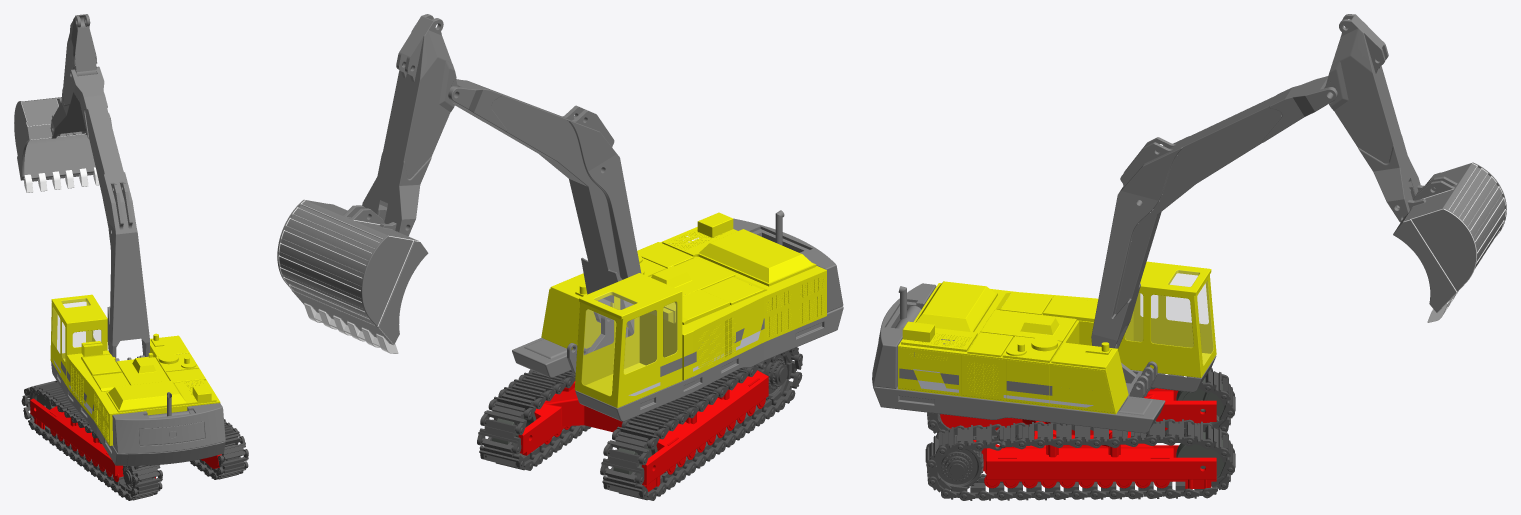
Rendered from new_excavator_without_cylinders.gltf.
3 views of the same model, side by side, from view 1: azimuth 30°, elevation 25°; view 2: azimuth 150°, elevation 25°; view 3: azimuth 270°, elevation 25° (orthographic). The views are drawn at different scales.
Parts seen in each view (by area): view 1: Base_Swing-1, Boom1_Main-1, Bucket-1, Boom2_Dipper-1, 01.Under Carriage Frame-1, 05.Shoe-5, 05.Shoe-41, 05.Shoe-40, 05.Shoe-4; view 2: Base_Swing-1, Bucket-1, Boom1_Main-1, Boom2_Dipper-1, 01.Under Carriage Frame-1, 05.Shoe-23, 05.Shoe-59, 05.Shoe-24, 05.Shoe-60, 05.Shoe-22, 05.Shoe-58, 05.Shoe-61 (+1 smaller); view 3: Base_Swing-1, Boom1_Main-1, 01.Under Carriage Frame-1, Bucket-1, Boom2_Dipper-1, 04.Wheel Cap-1, 03.Wheel Driving-1, 02.Wheel Driven Part-1.
Boxes of the visible parts, left/top/right/bottom form: Base_Swing-1: left=50, top=294, right=225, bottom=465; Boom1_Main-1: left=69, top=66, right=149, bottom=361; Bucket-1: left=14, top=97, right=111, bottom=192; Boom2_Dipper-1: left=50, top=14, right=97, bottom=138; 01.Under Carriage Frame-1: left=30, top=398, right=221, bottom=481; 05.Shoe-5: left=218, top=449, right=248, bottom=473; 05.Shoe-41: left=132, top=470, right=162, bottom=494; 05.Shoe-40: left=128, top=465, right=160, bottom=481; 05.Shoe-4: left=218, top=436, right=245, bottom=460; Base_Swing-1: left=512, top=210, right=843, bottom=421; Bucket-1: left=277, top=199, right=428, bottom=353; Boom1_Main-1: left=448, top=79, right=641, bottom=334; Boom2_Dipper-1: left=362, top=14, right=458, bottom=236; 01.Under Carriage Frame-1: left=518, top=370, right=768, bottom=491; 05.Shoe-23: left=477, top=418, right=523, bottom=454; 05.Shoe-59: left=600, top=449, right=646, bottom=484; 05.Shoe-24: left=480, top=401, right=531, bottom=434; 05.Shoe-60: left=603, top=431, right=654, bottom=465; 05.Shoe-22: left=479, top=437, right=524, bottom=468; 05.Shoe-58: left=602, top=467, right=647, bottom=498; 05.Shoe-61: left=612, top=420, right=664, bottom=449; Base_Swing-1: left=872, top=261, right=1216, bottom=433; Boom1_Main-1: left=1091, top=76, right=1337, bottom=348; 01.Under Carriage Frame-1: left=940, top=388, right=1216, bottom=489; Bucket-1: left=1393, top=162, right=1506, bottom=322; Boom2_Dipper-1: left=1324, top=14, right=1420, bottom=222; 04.Wheel Cap-1: left=941, top=451, right=972, bottom=481; 03.Wheel Driving-1: left=936, top=436, right=983, bottom=489; 02.Wheel Driven Part-1: left=1176, top=432, right=1225, bottom=486.
Bounding box in the file's own units: 5.43 × 9.79 × 11.79.
